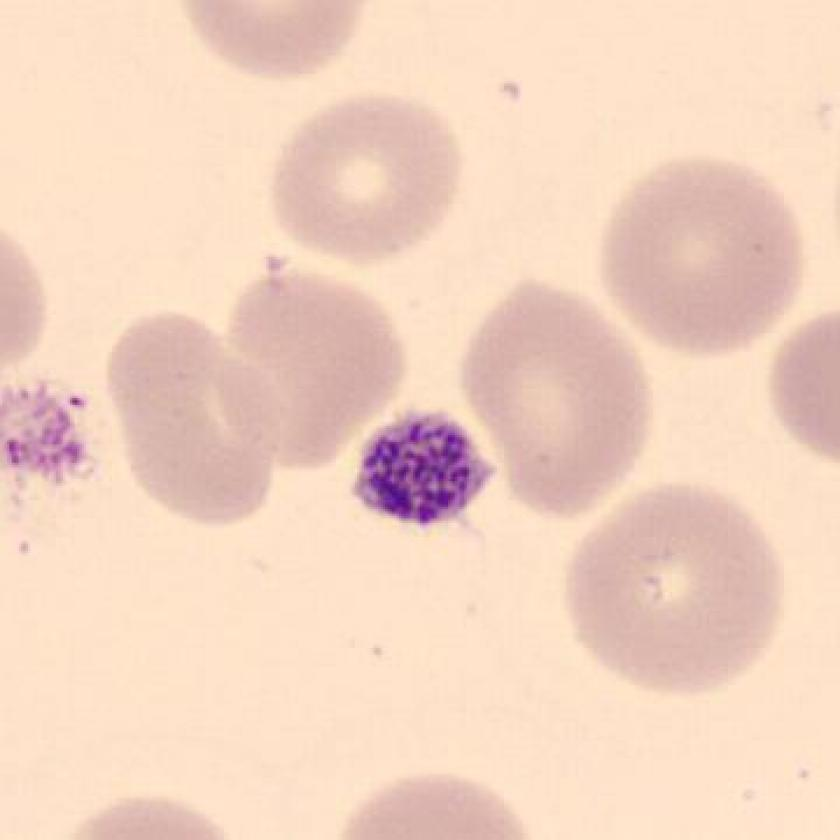platelets: (337, 397, 507, 547)
